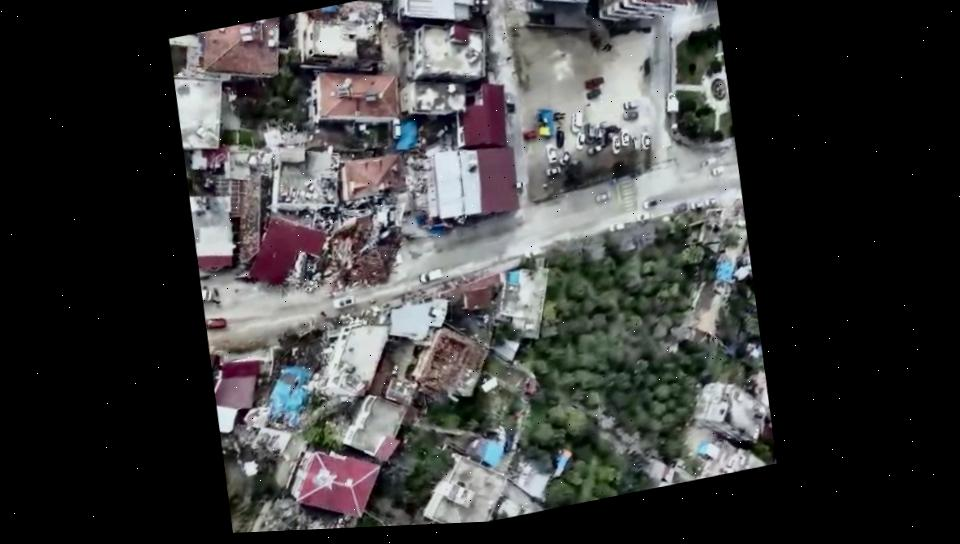kapali: (218, 237, 418, 347)
